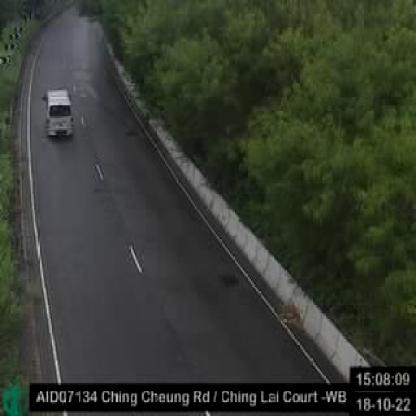Car: (43, 87, 74, 143)
